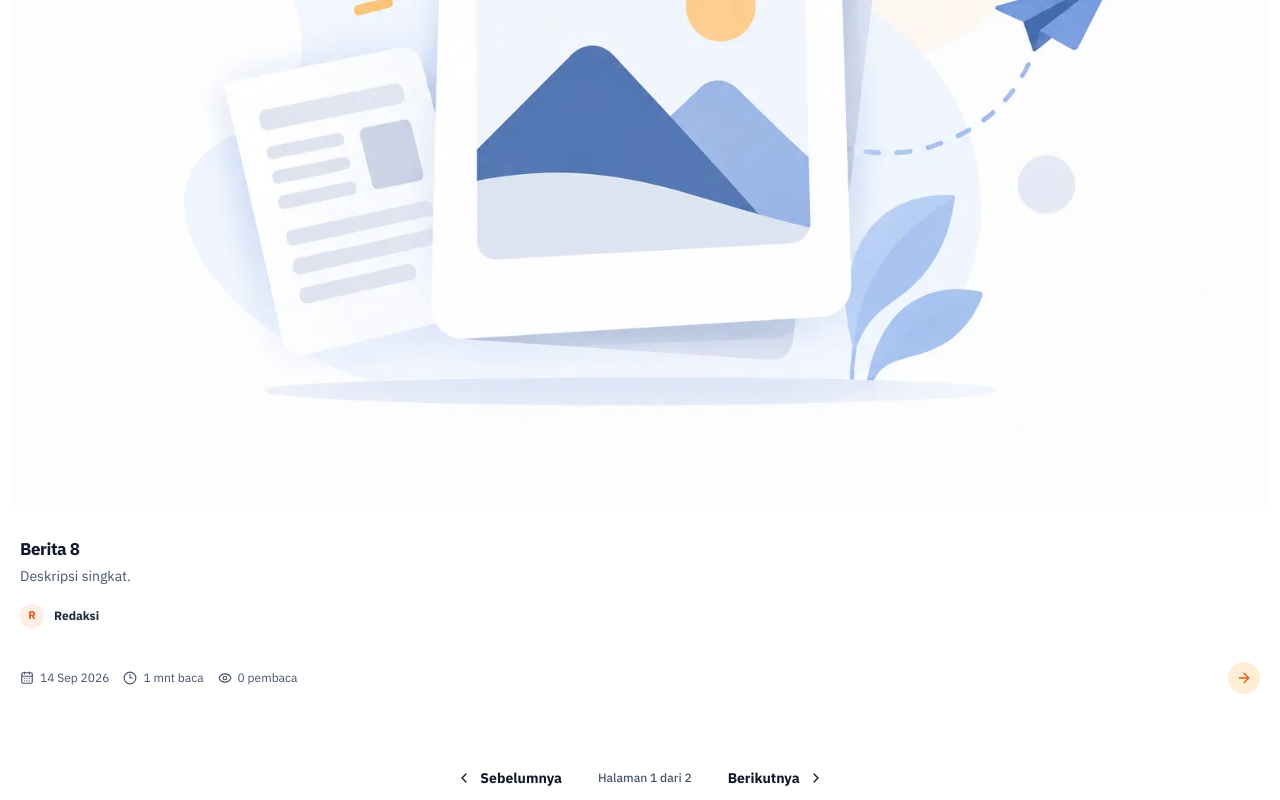
it: OrangeModernArchivePager › berpindah halaman dengan sebelumnya dan berikutnya
(page scrolled)
Expected: the button "Sebelumnya" is disabled, [432,756,586,799]
Click the button "Berikutnya". click: x=776, y=778
box: [704,756,848,799]
(page scrolled)
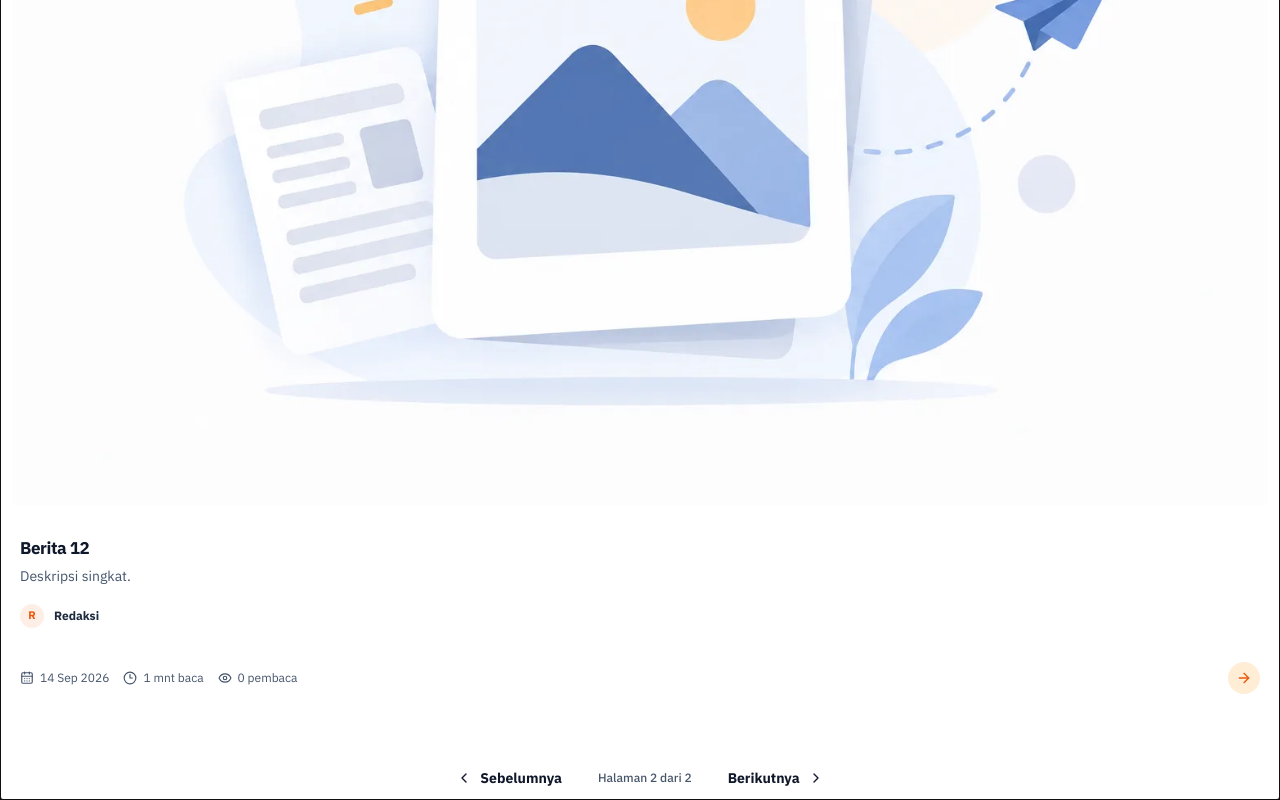
Expected: the link "Berita 12" is shown, [20,537,89,559]
Expected: the text "Halaman 2 dari 2" is shown, [598,770,692,786]
Click the button "Sebelumnya". click: x=509, y=778
box: [432,756,586,799]
(page scrolled)
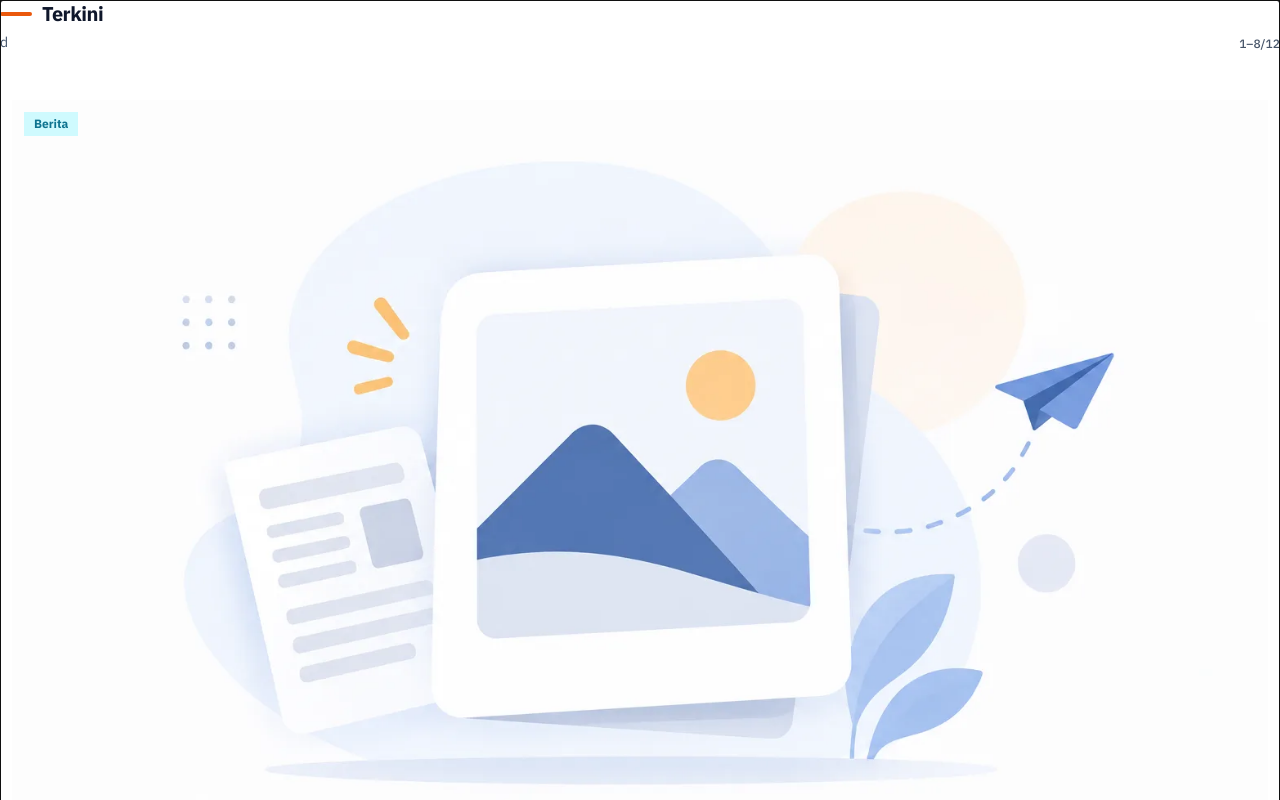
Expected: the message reads "1–8/12", [1239,36,1279,52]
